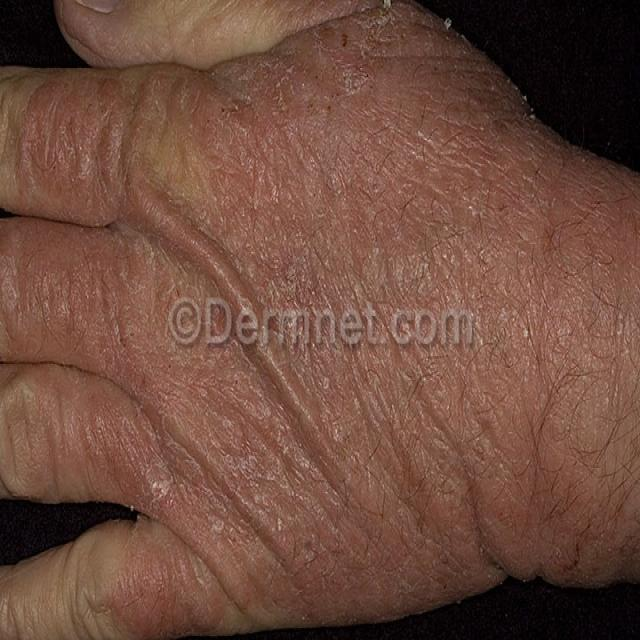Eczema: (98, 70, 516, 561)
